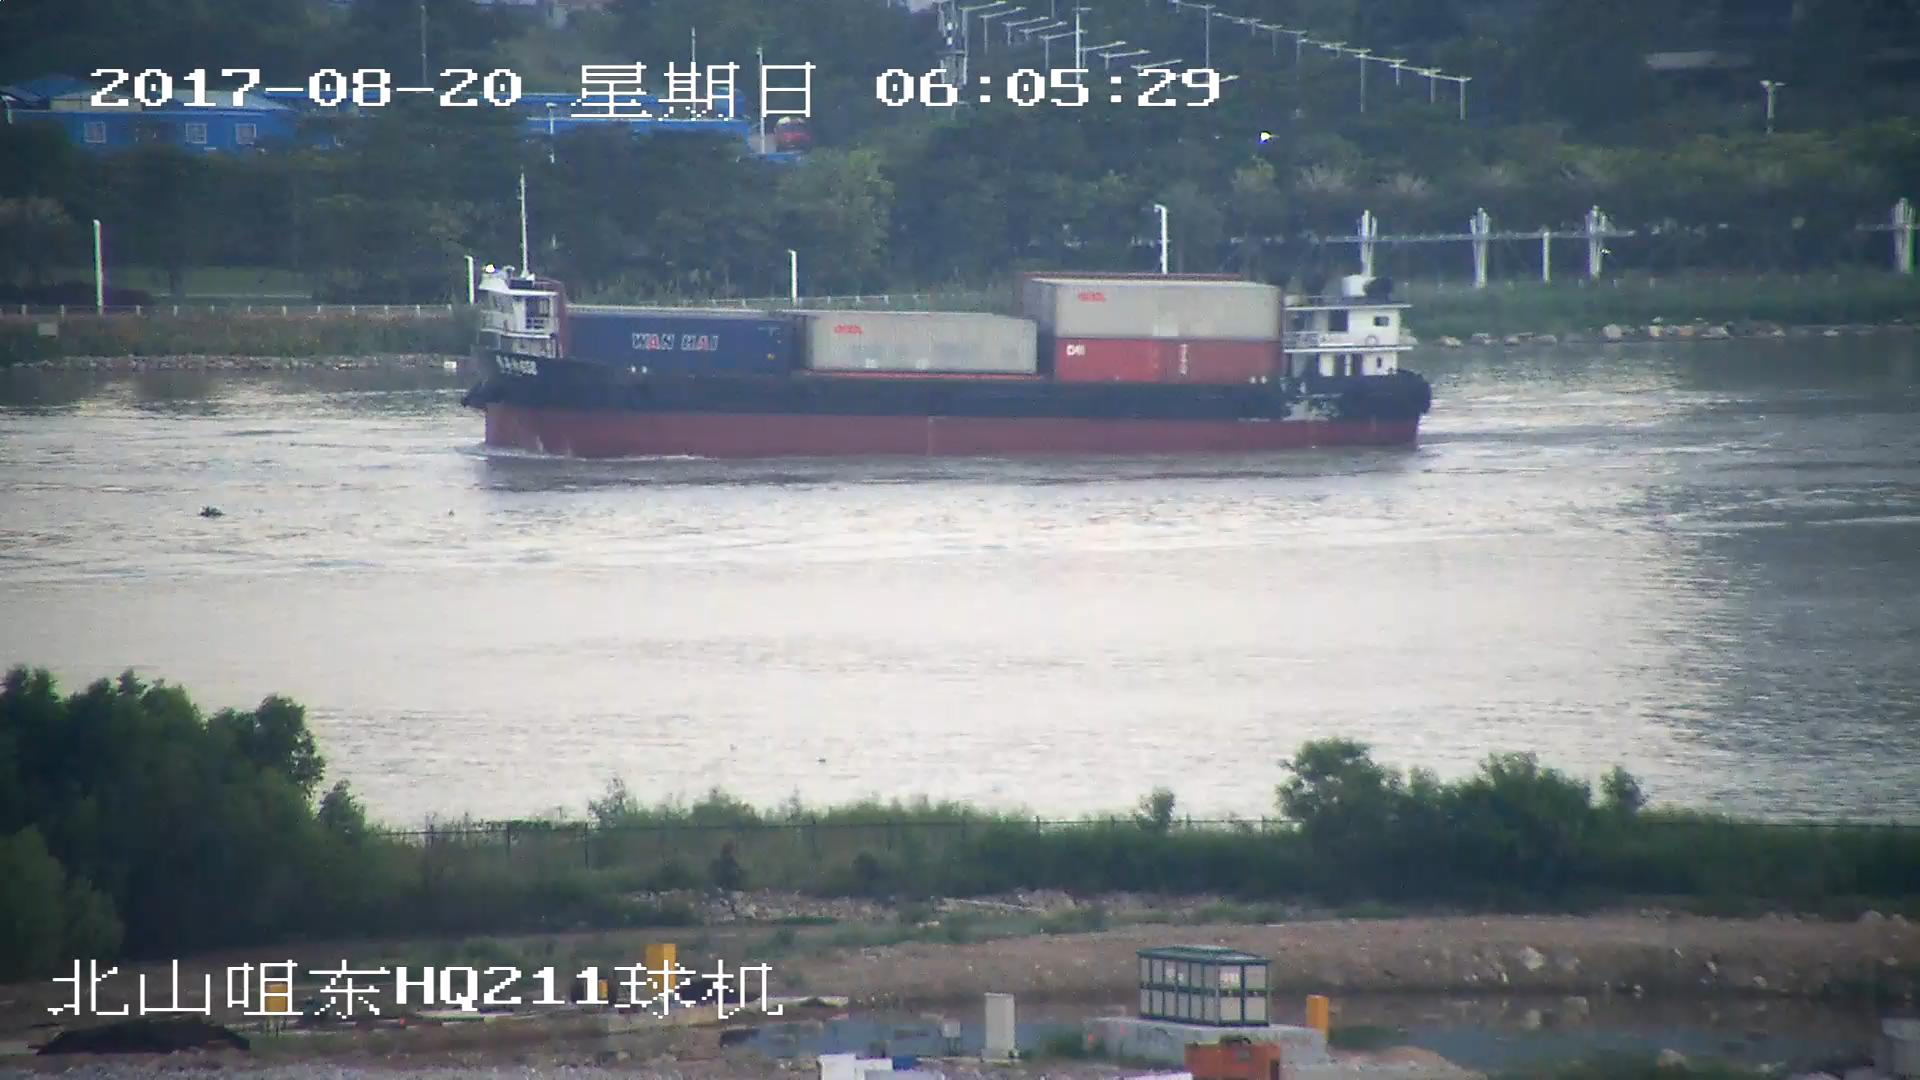container ship: (470, 176, 1434, 462)
